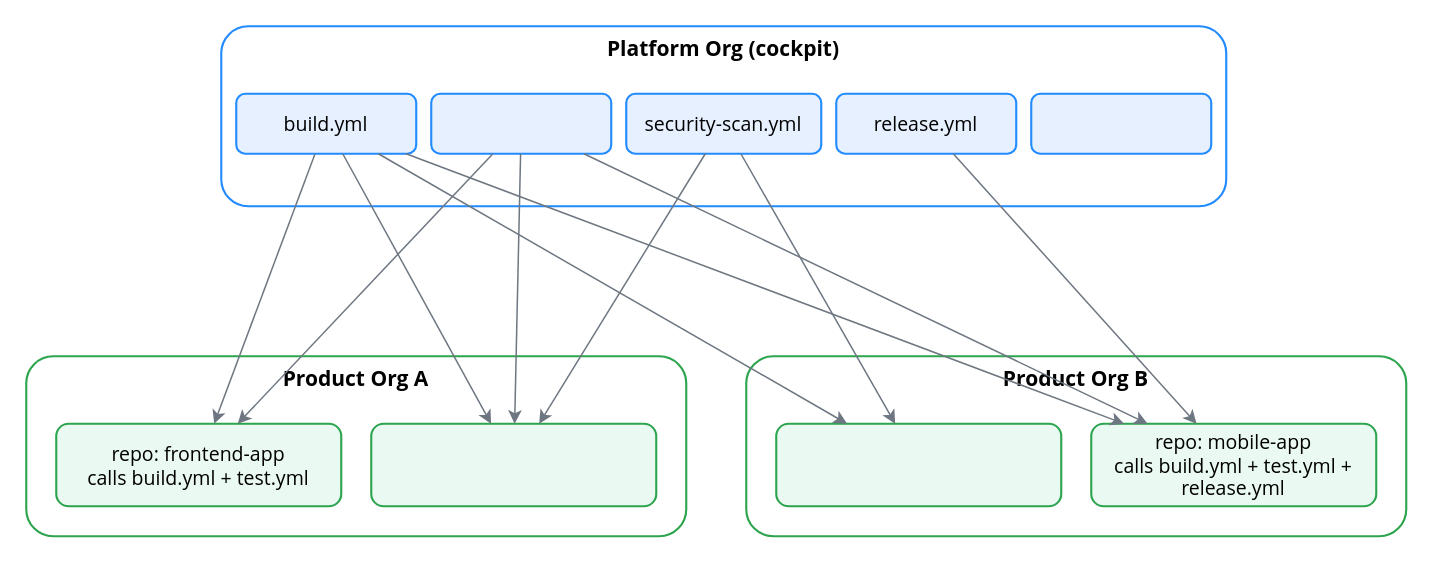
This 1434x564 diagram has some shape labels left out. Here are the shapes that lost their labels. From the top down, the centre of each, then its label:
At pixel 520 123: "test.yml".
At pixel 1120 123: "dependency-update.yml".
At pixel 513 464: "repo: backend-api calls build.yml + test.yml + security-scan.yml".
At pixel 918 464: "repo: data-pipeline calls build.yml + security-scan.yml".
